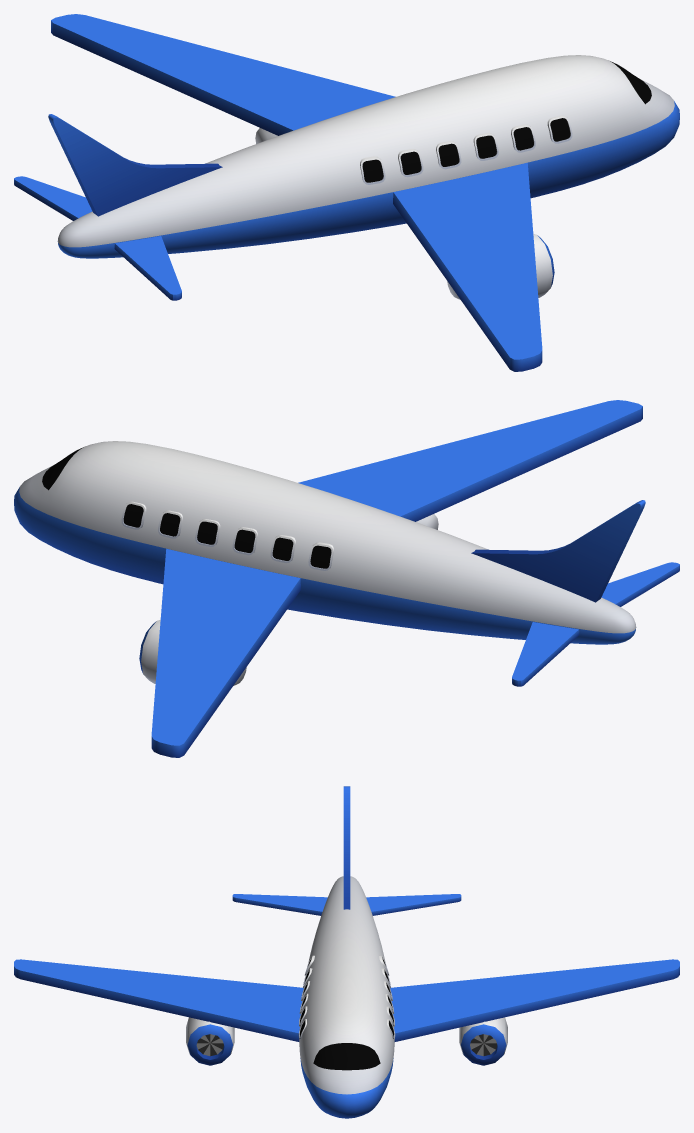
The model's file is airplane.glb.
The picture shows the model from 3 angles, top to bottom: view 1: azimuth 30°, elevation 25°; view 2: azimuth 150°, elevation 25°; view 3: azimuth 270°, elevation 25°; orthographic projection. The views are drawn at different scales.
Visible parts, largest first — view 1: plane; view 2: plane; view 3: plane.
Part boxes in pixels (x1=…): plane: x1=14, y1=14, x2=679, y2=371; plane: x1=14, y1=400, x2=679, y2=757; plane: x1=14, y1=786, x2=679, y2=1118.
Size of the model in its own units: 8.36 by 2.6 by 10.82.
Materials: 2 (1 with a texture image).
